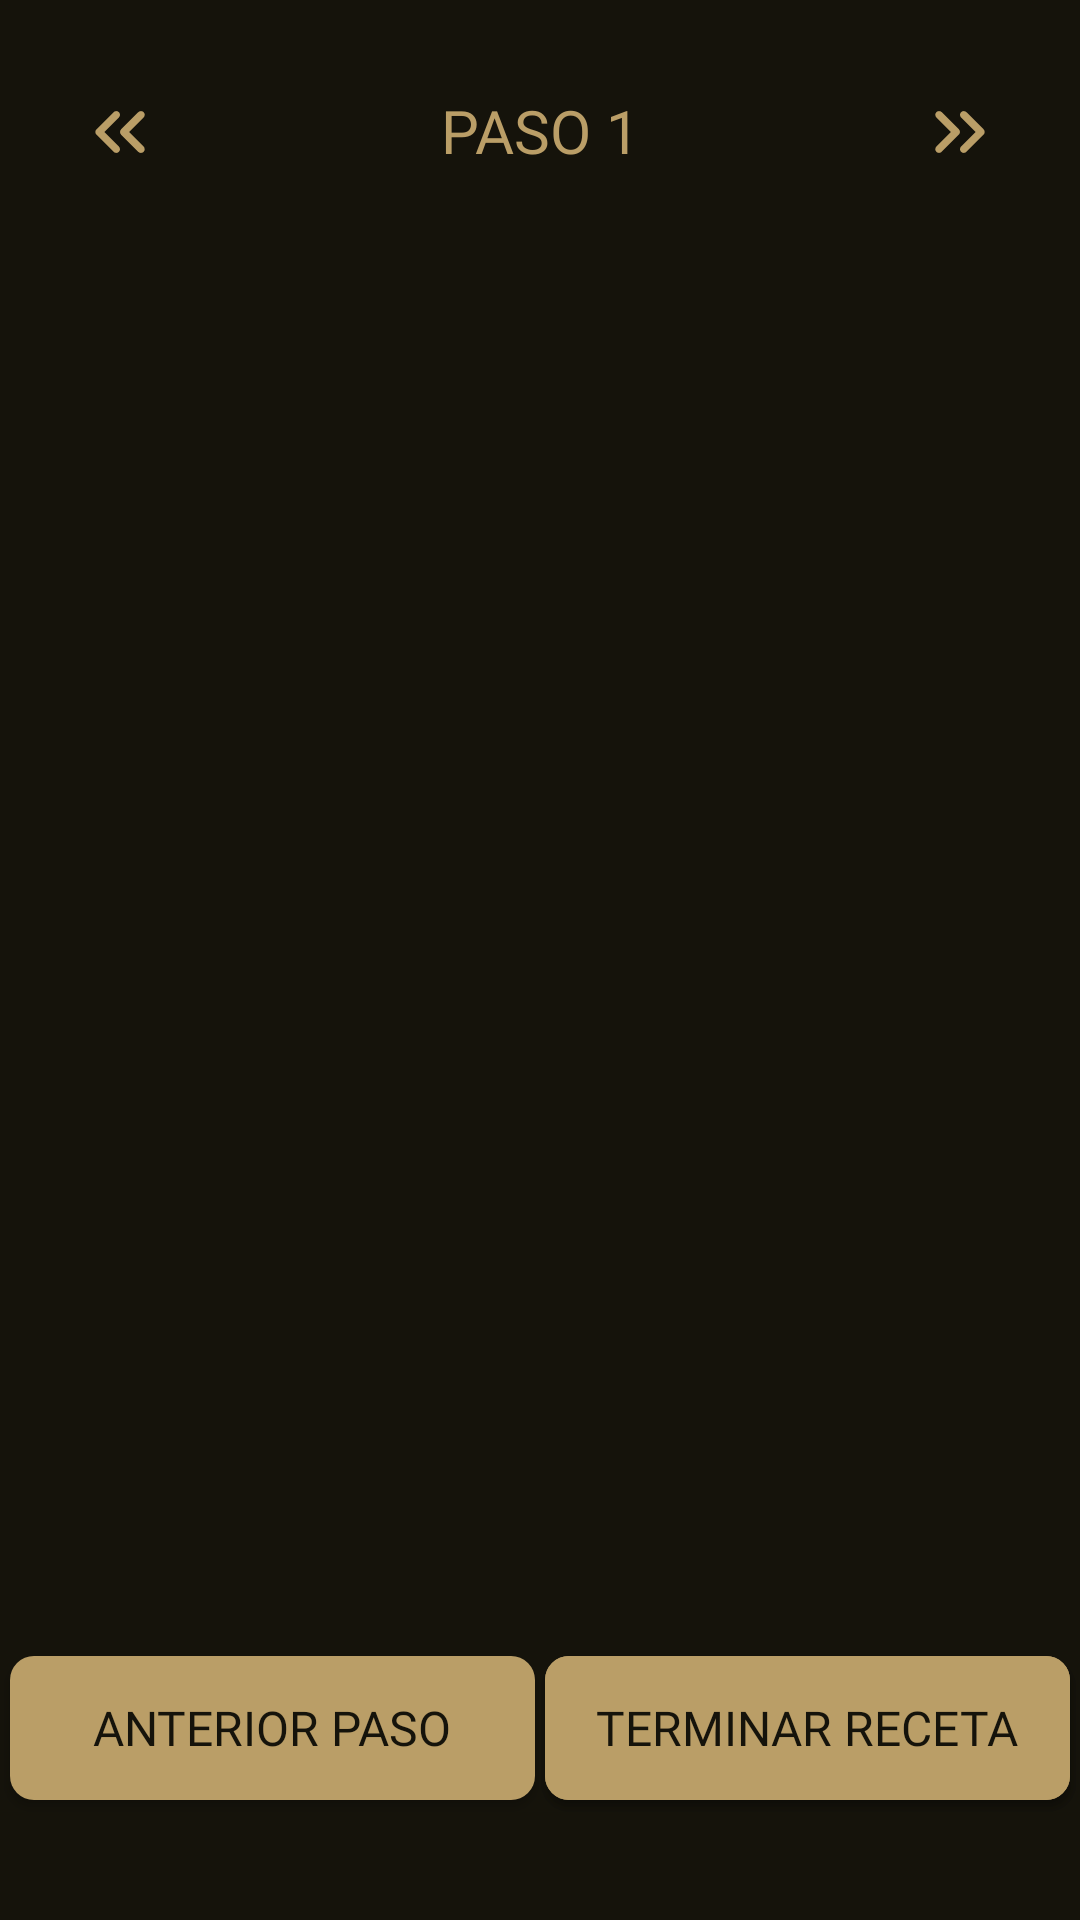

Named icons in this screenshot (1080px x 1920px) and their bounding boxes, (x1, y1, x2, y2):
arrow left: (95, 111, 145, 153)
arrow right: (935, 111, 985, 153)
